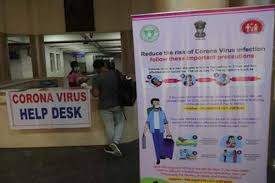mask: (70, 58, 78, 71)
